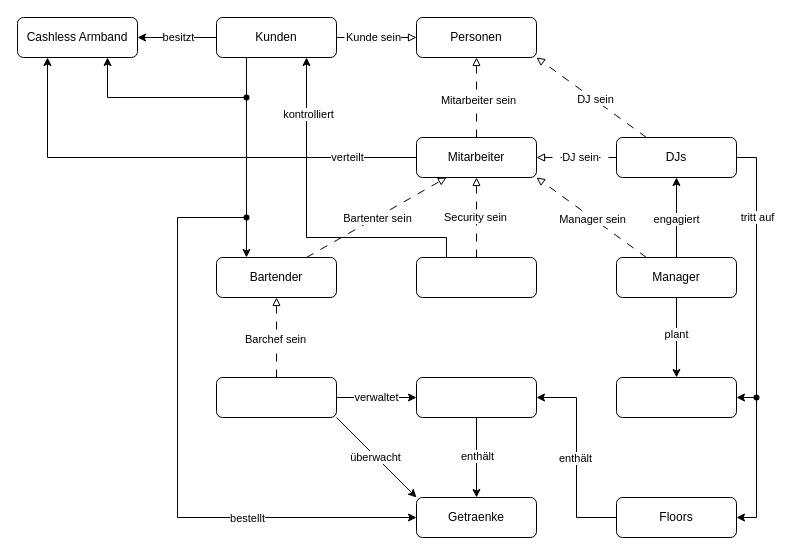
The diagram is 791 pixels wide and 555 high, and some of its shapes have lost their labels. Here are the shapes that lost their labels. From the top down, the box of each, then its label:
(416, 256, 536, 298): Securities
(216, 376, 336, 418): Barchefs
(416, 376, 536, 418): Bars
(616, 376, 736, 418): Events
